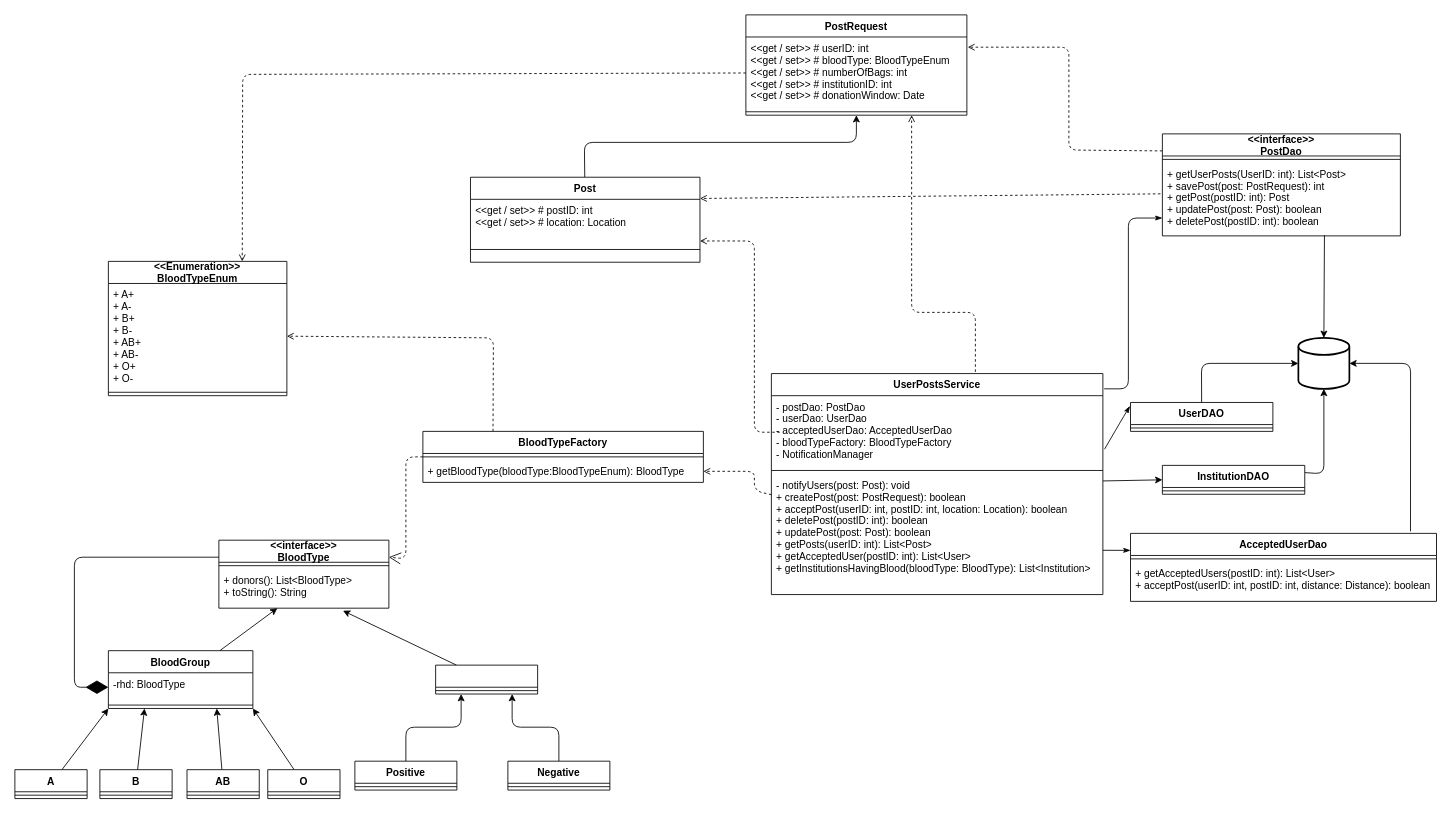
Image size: 1452x813. Some labels were removed from this diagram. The shapes that lost their labels are listed below. From the top down, each one's centre as x and y in pixels, then its label:
At (1323,363): "DB".
At (486,679): "Rhd".
